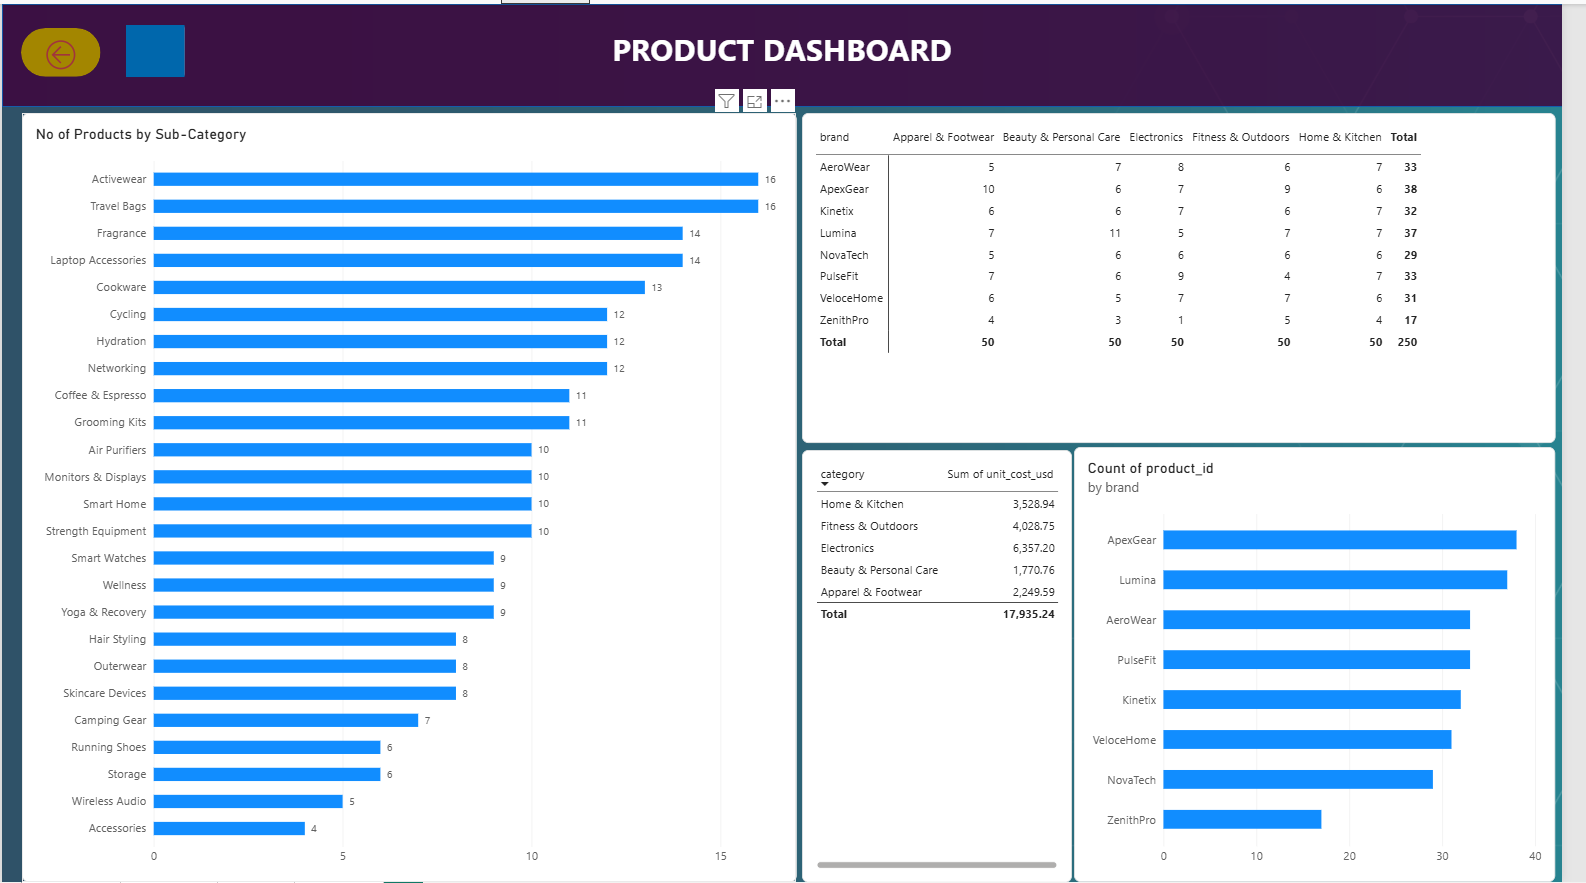

The dashboard page shown, as its layout file describes it:
{"tool":"powerbi","page":{"name":"Products","canvas":[1920,1080],"ordinal":3},"visuals":[{"type":"shape","box":[0,0,1920,126.5],"z":1000},{"type":"actionButton","box":[23.5,30,97.8,60],"z":3000},{"type":"textbox","box":[710.9,30,497,80.9],"z":4000},{"type":"barChart","title":"No of Products by Sub-Category","fields":{"Category":["Products.sub_category"],"Y":["CountNonNull(Products.product_id)"]},"box":[24.1,134,952.6,945.9],"z":6001},{"type":"tableEx","fields":{"Values":["Products.category","Products.unit_cost_usd"]},"box":[983.4,548,332.3,531.9],"z":6002},{"type":"barChart","fields":{"Category":["Products.brand"],"Y":["CountNonNull(Products.product_id)"]},"box":[1318.4,545.3,592.2,534.6],"z":6003},{"type":"pivotTable","fields":{"Columns":["Products.category"],"Rows":["Products.brand"],"Values":["CountNonNull(Products.product_id)"]},"box":[983.4,134,927.2,406],"z":6004},{"type":"actionButton","box":[152.7,25.5,72.4,64.3],"z":6005}]}

Visuals, with their boxes in screenshot pixels (x1, y1, x2, y2):
shape: 4 0 1554 102
actionButton: 23 24 102 73
textbox: 578 24 979 90
"No of Products by Sub-Category" barChart: 24 108 792 872
tableEx - Products.category x Products.unit_cost_usd: 798 442 1066 872
barChart - Products.brand x CountNonNull(Products.product_id): 1068 440 1546 872
pivotTable - Products.category x Products.brand: 798 108 1546 436
actionButton: 127 21 186 72
